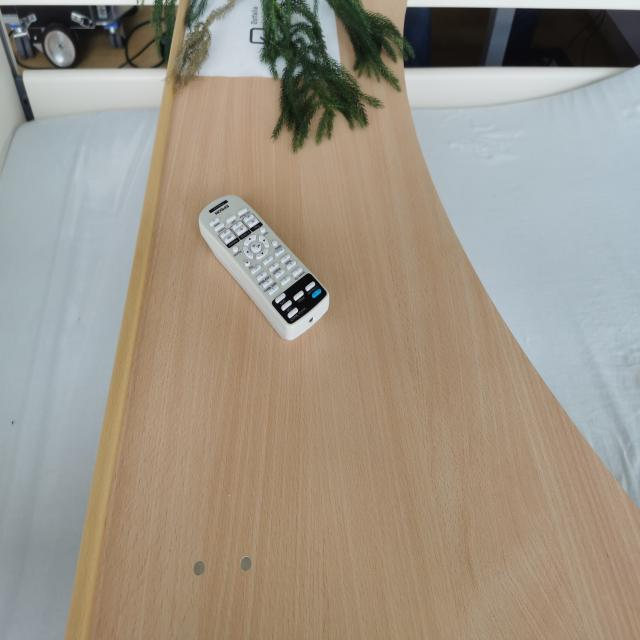remote: (197, 191, 331, 341)
